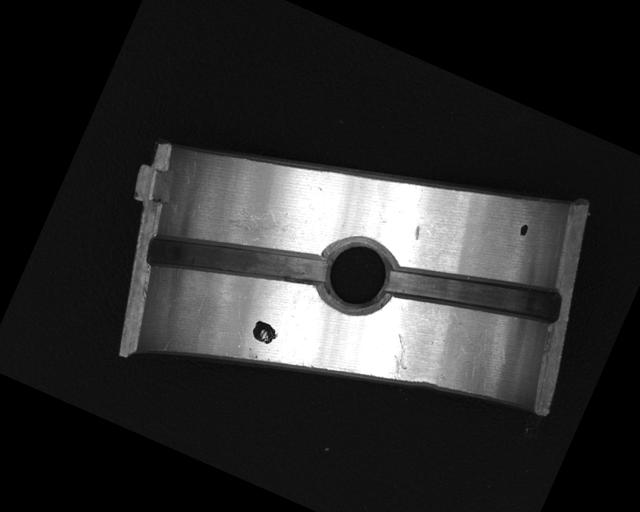blot: (248, 317, 282, 347), (517, 221, 531, 238)
bruise: (411, 224, 424, 242)
gap: (144, 191, 330, 327), (385, 228, 565, 356)
hole: (307, 227, 406, 323)
nick: (380, 331, 419, 381)
scratch: (218, 190, 295, 253)
